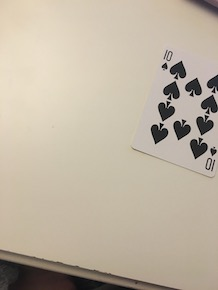TenOfSpades: (128, 43, 218, 182)
